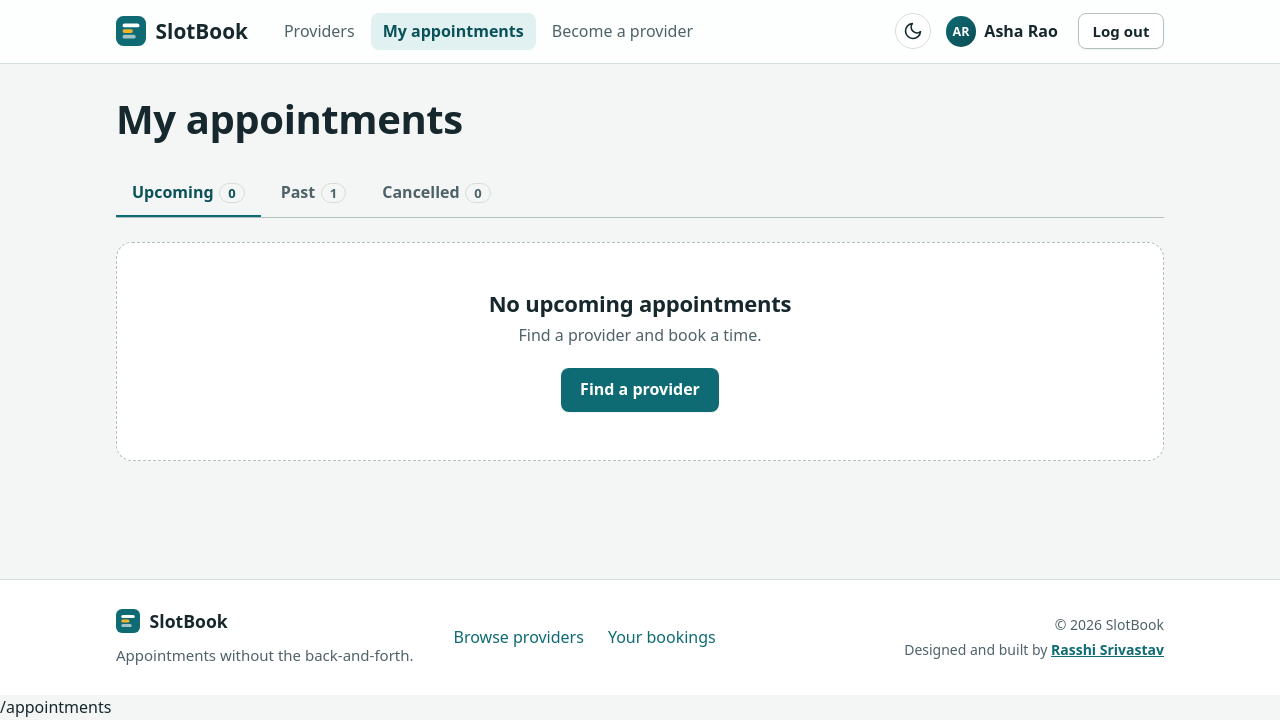
Test case: reviewing a finished appointment › closes without sending on "Not now"
Click the tab "Past1" at (313, 194), box [265,170,362,218]
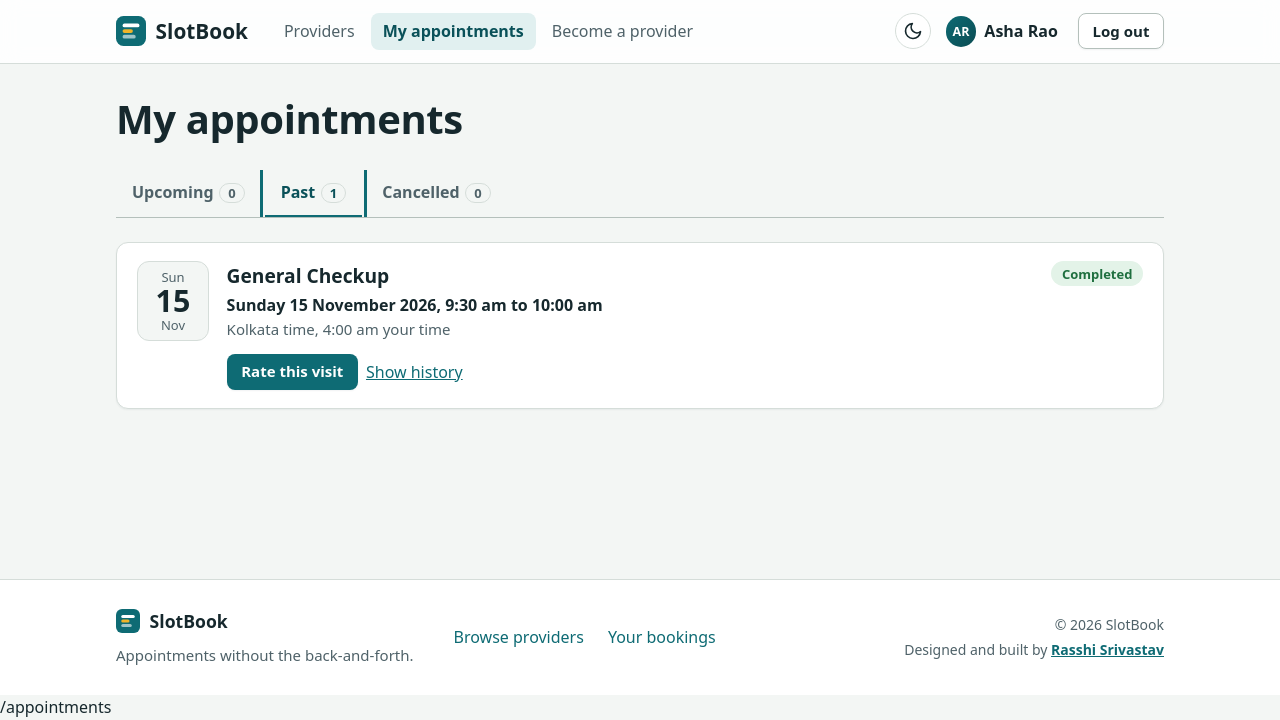
Click the button "Rate this visit" at (292, 372), box [227,354,358,390]
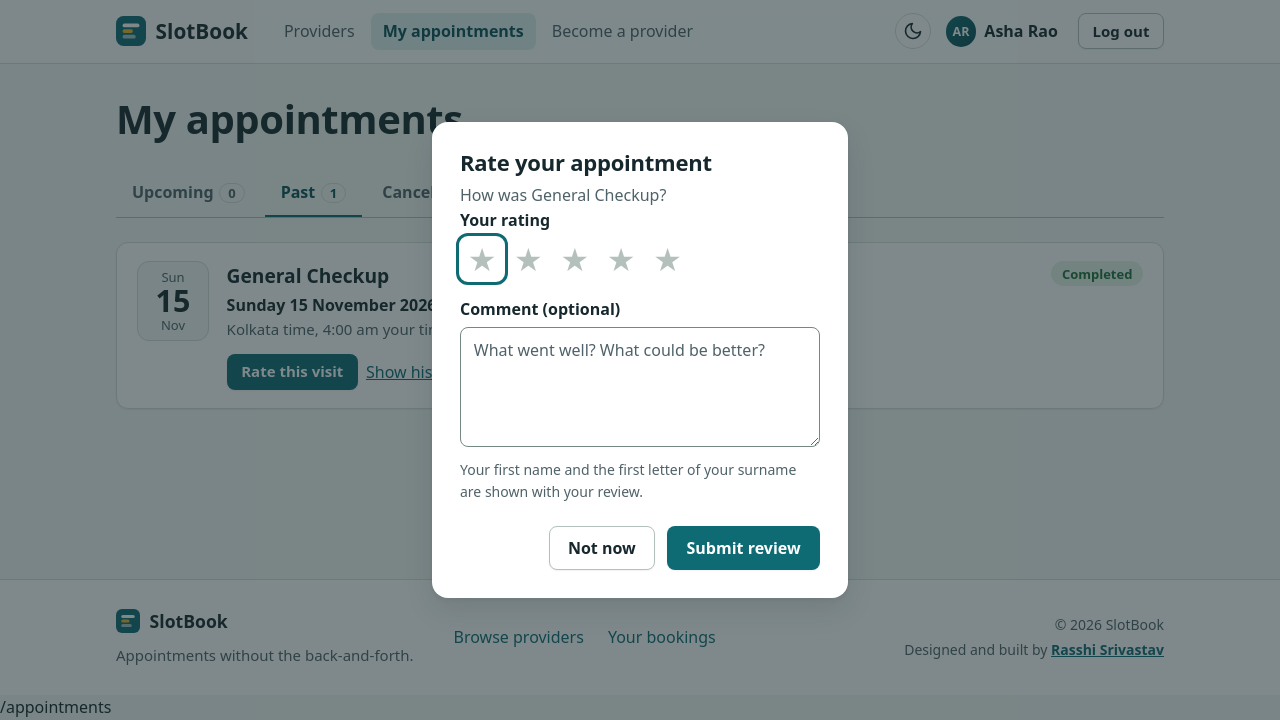
Click the button "Not now" at (602, 548), box [549,526,655,570]
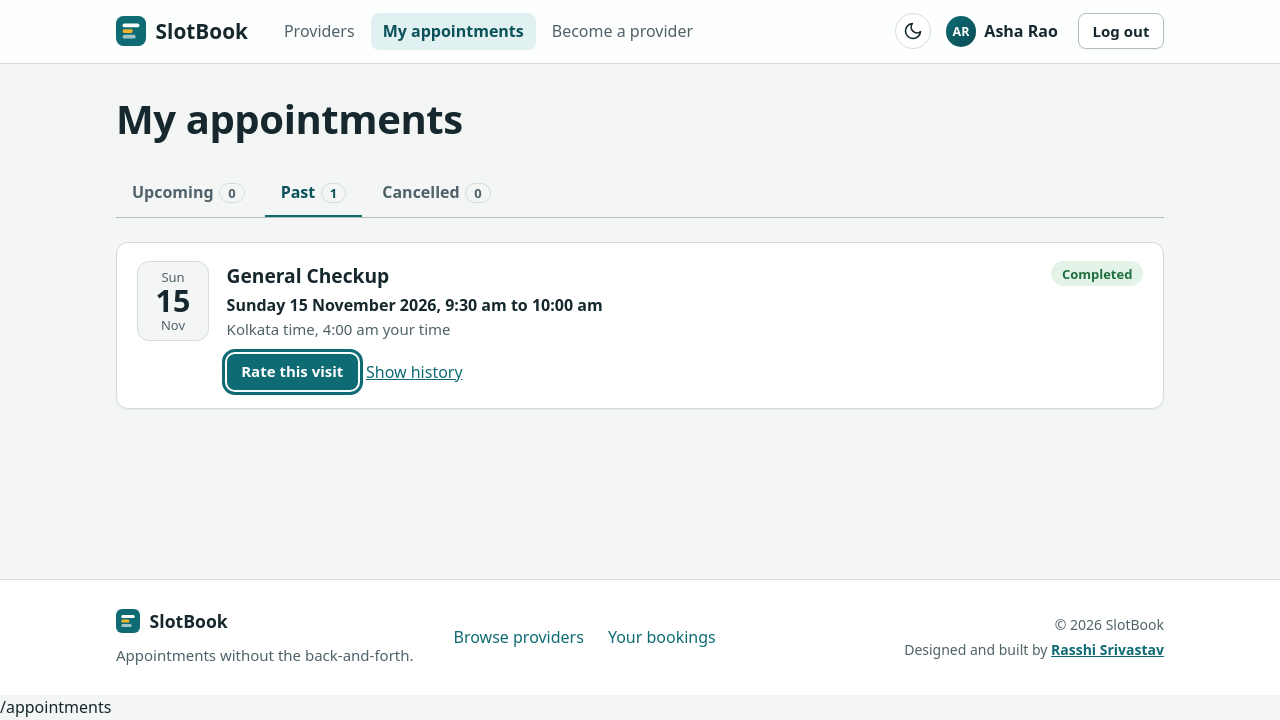
Expected: the dialog is gone
